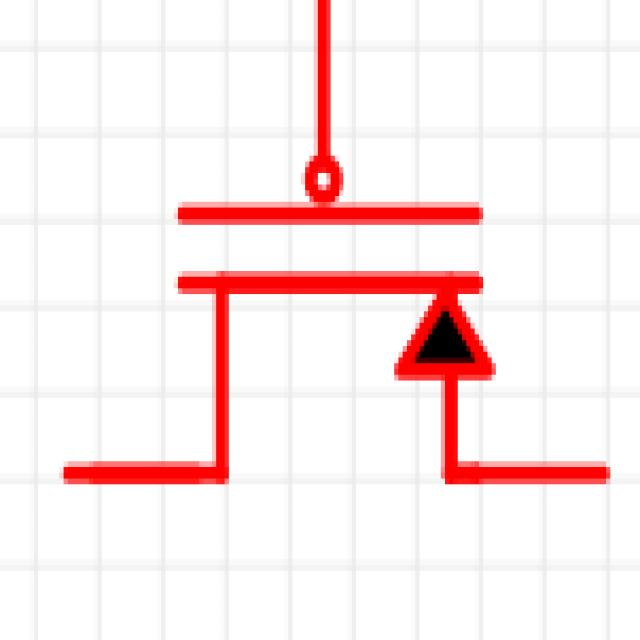pmos: (90, 8, 606, 576)
